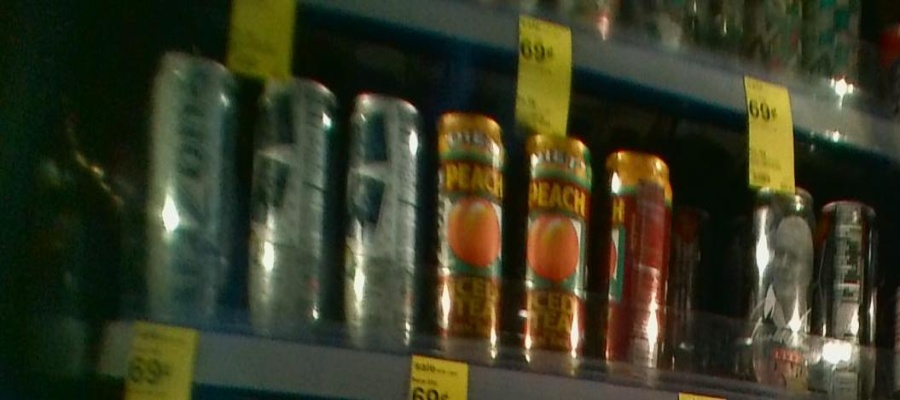bottle: (132, 41, 241, 326), (245, 66, 336, 330), (345, 81, 424, 348), (516, 121, 595, 380), (434, 91, 507, 368), (600, 130, 671, 389), (745, 174, 817, 392), (820, 182, 880, 400)
